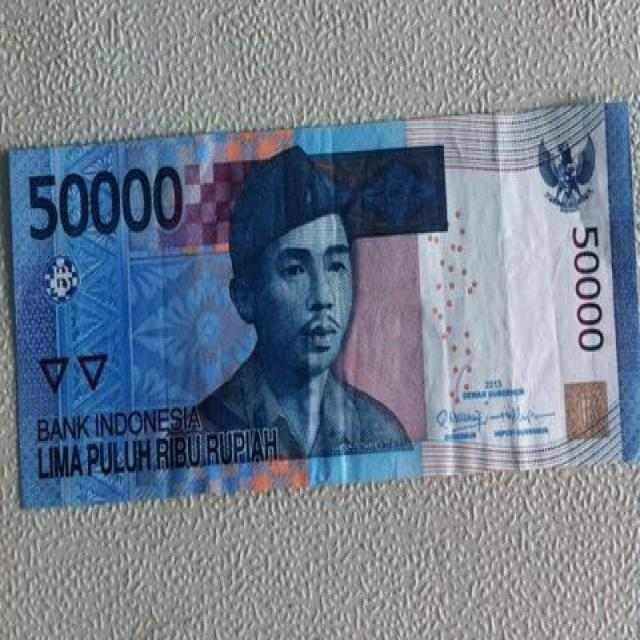lima puluh ribu rupiah: (1, 129, 640, 496), (215, 151, 377, 395), (14, 162, 194, 239)
